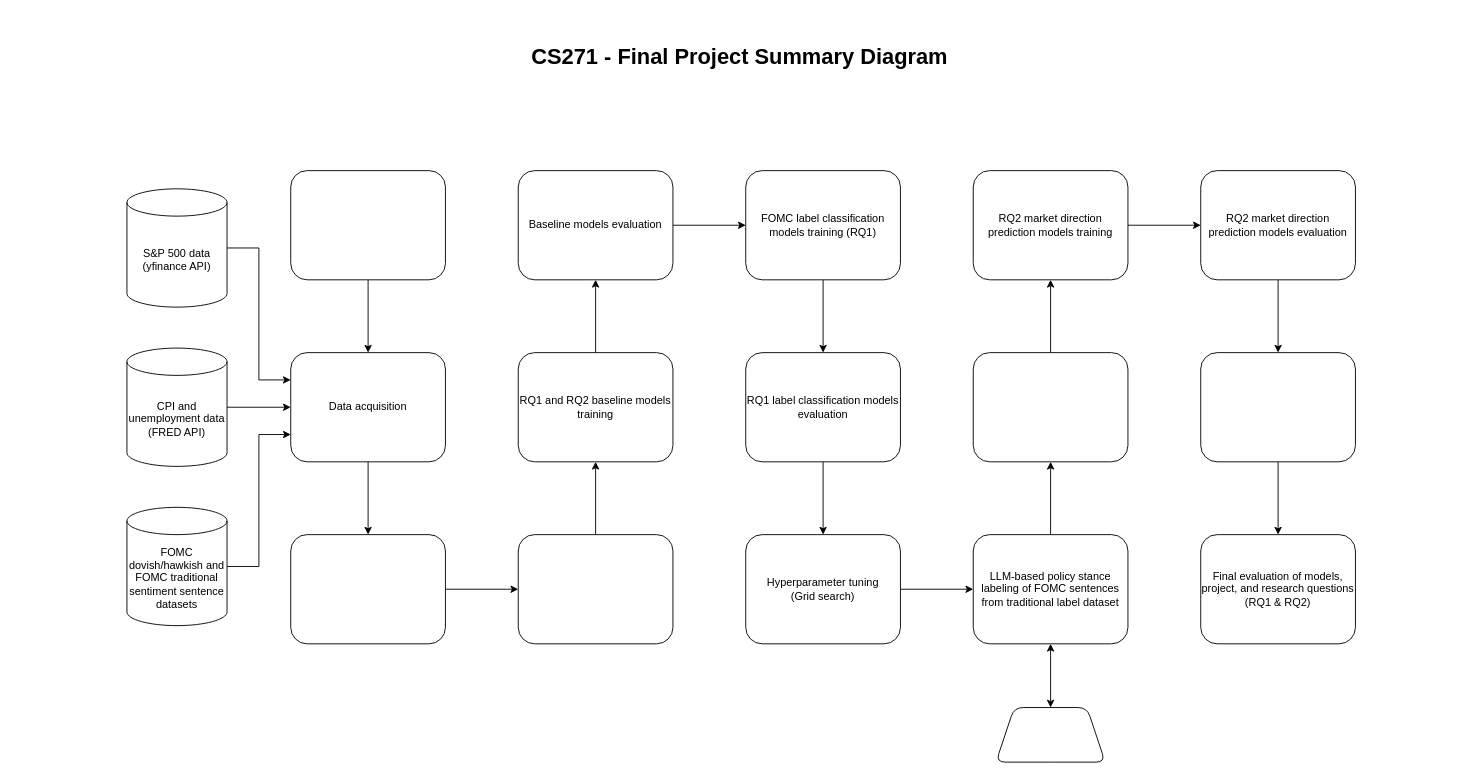
The diagram is 1478 pixels wide and 778 high, and some of its shapes have lost their labels. The centre of each missing label's shape, as x and y in pixels:
"Aggregating LLM-labeled FOMC dataset with Hawkishness scores" goes at point (1050, 407).
"Data cleansing and exploration" goes at point (367, 589).
"Groq API (Free-tier)/ AWS Bedrock API" goes at point (1050, 734).
"Hyperparameter tuning" goes at point (1277, 407).
"Research questions formulation (RQ1 & RQ2)" goes at point (367, 225).
"Splitting datasets (RQ1: 60/20/20) (RQ2: 80/20)" goes at point (595, 589).
